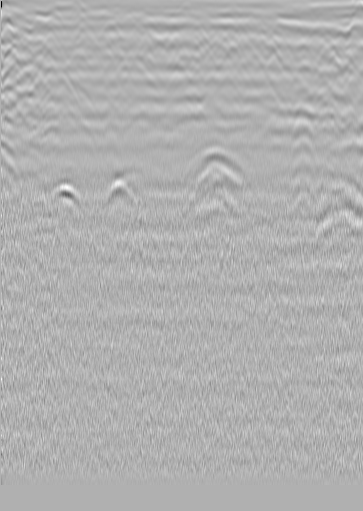가스: (99, 178, 141, 214)
상수: (312, 26, 332, 46)
우수: (180, 20, 200, 40)
